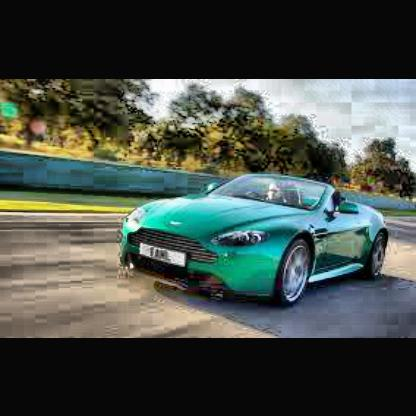Aston Martin V8 Vantage Convertible 2012: (122, 173, 394, 310)
